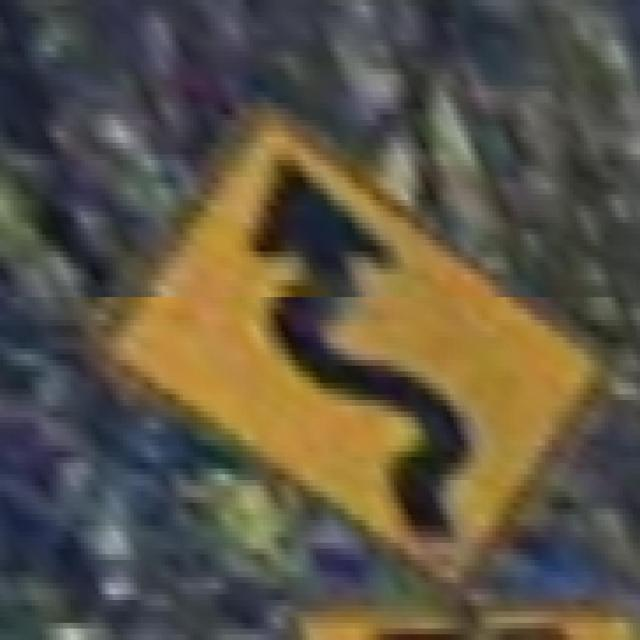Banyak Tikungan Pertama Kanan: (91, 97, 605, 594)
